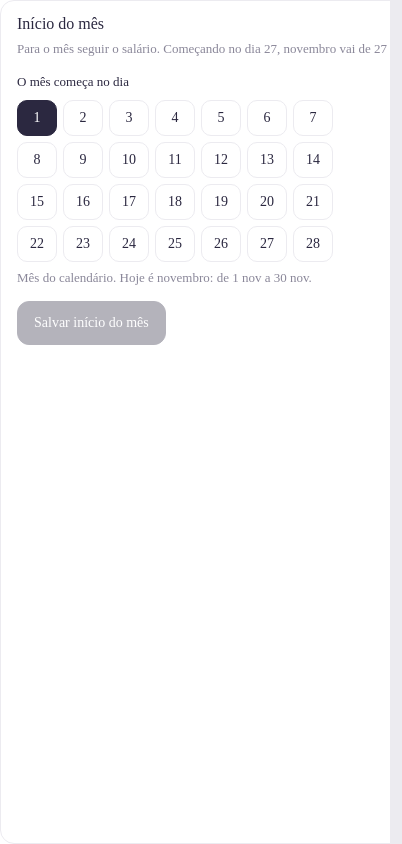
Test: month start day › says when saving fails
Click the radio button with test id "month-start-10": (129, 160) [109, 142, 149, 178]
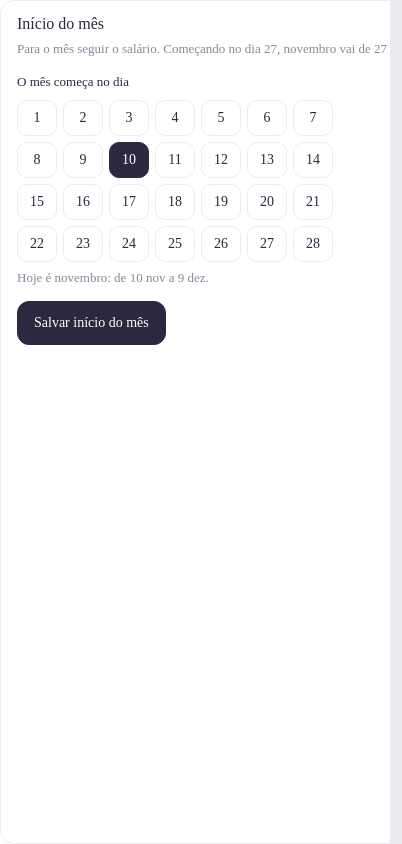
Click the button "Salvar início do mês": (91, 323) [17, 301, 166, 345]
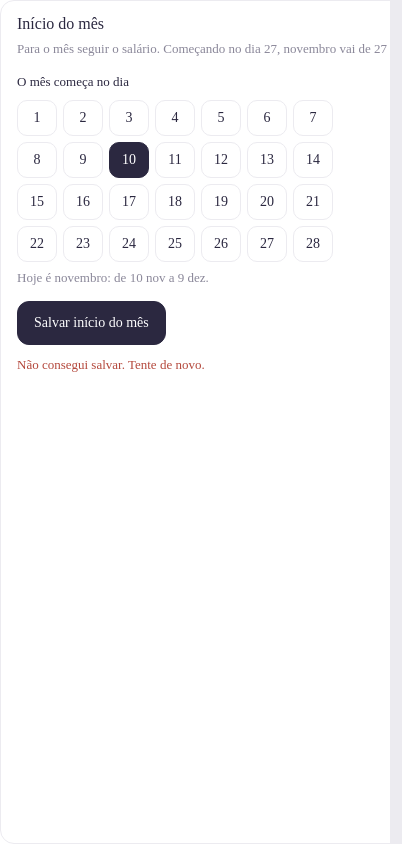
Result: the text "Não consegui salvar. Tente de novo." is shown at [17, 357, 205, 372]
